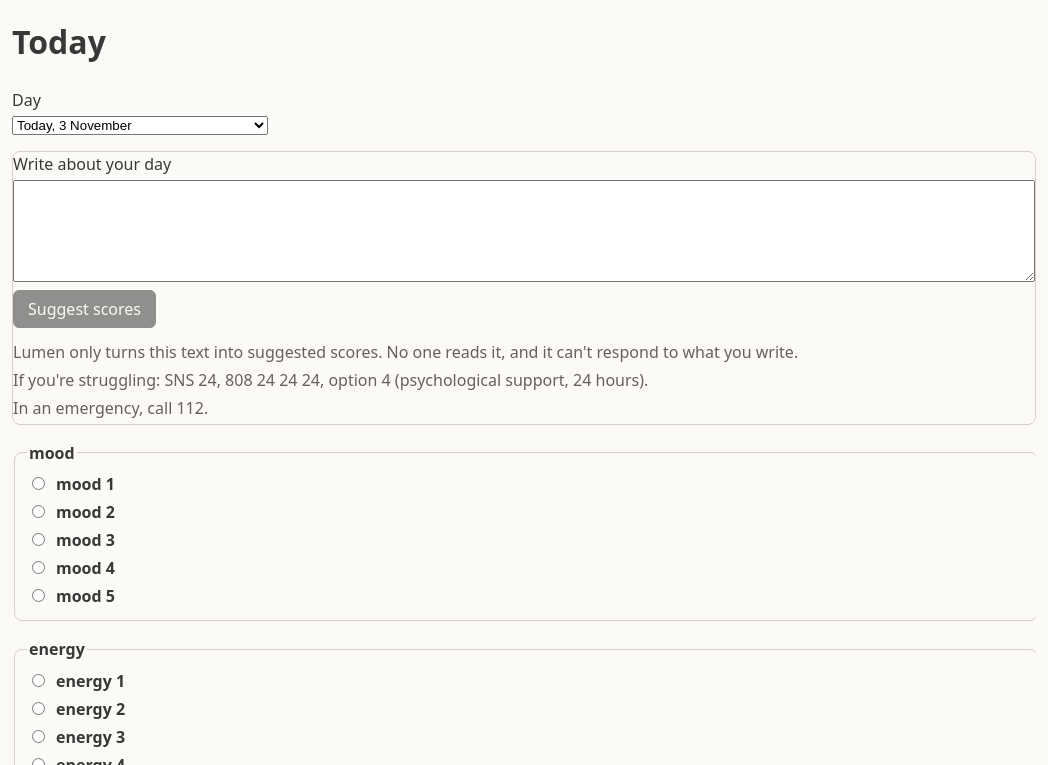
Scenario: a new day › asks the prompted dimensions, and saving sends exactly the answers
Click the radio button labelled "mood 4". click: click(38, 568)
box: [32,562,45,574]
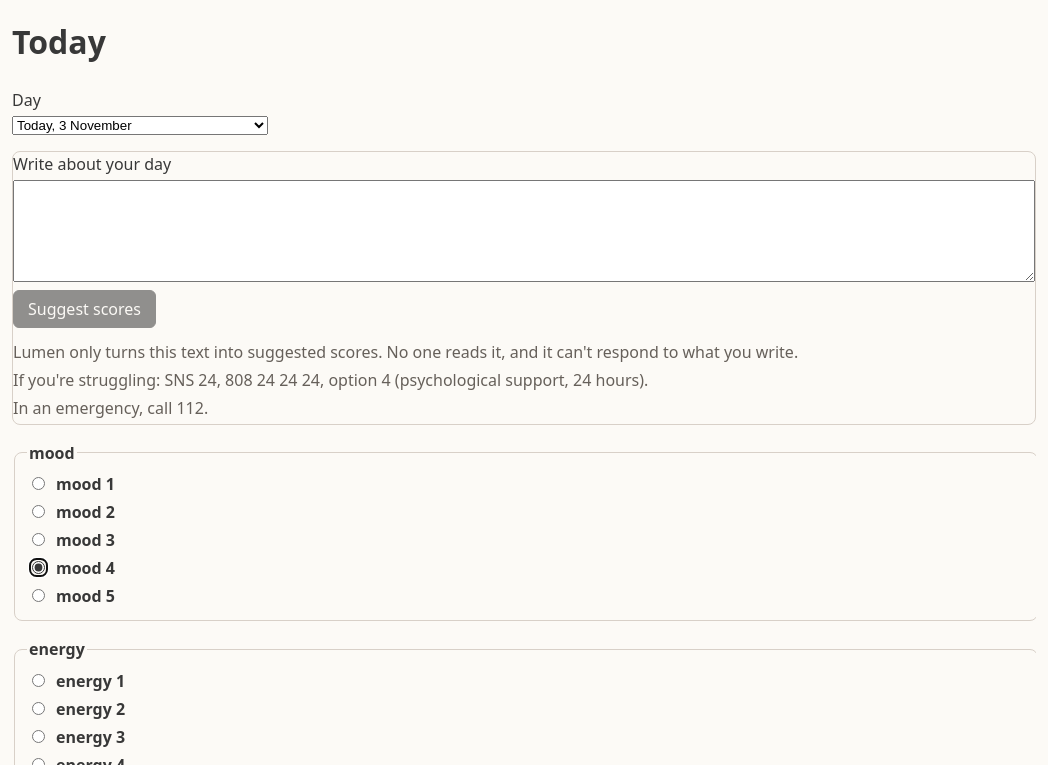
Click the radio button labelled "energy 3". click: click(38, 737)
box: [32,730,45,743]
(page scrolled)
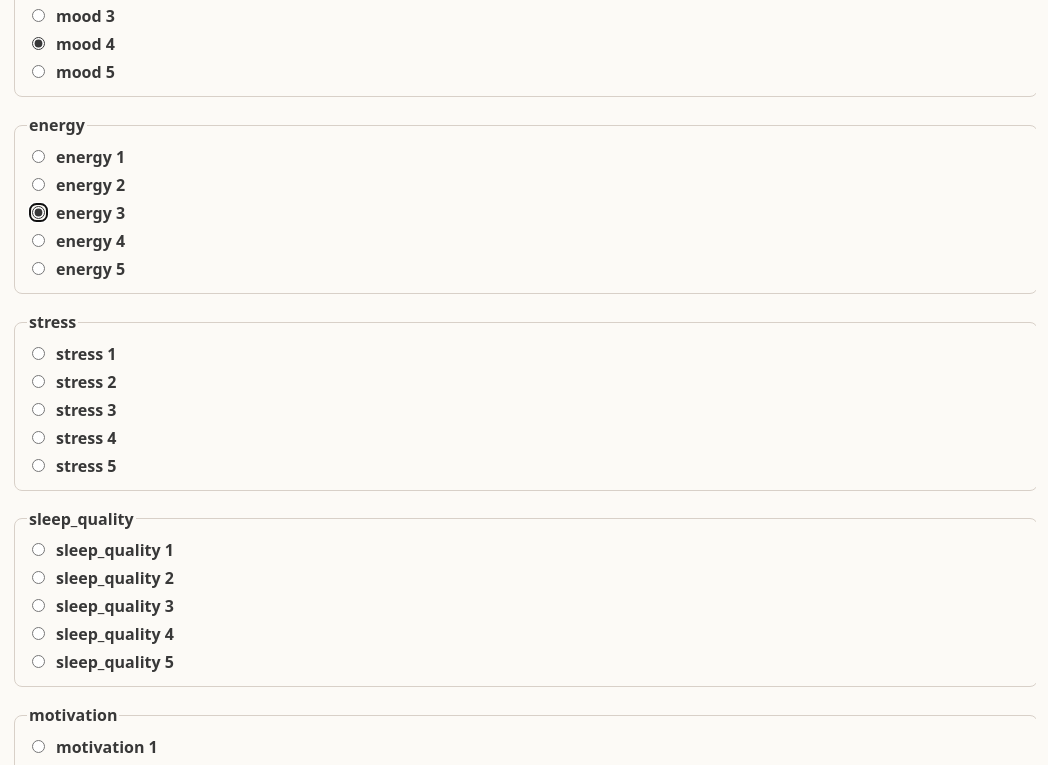
Click the radio button labelled "stress 2". click: click(38, 381)
box: [32,375,45,388]
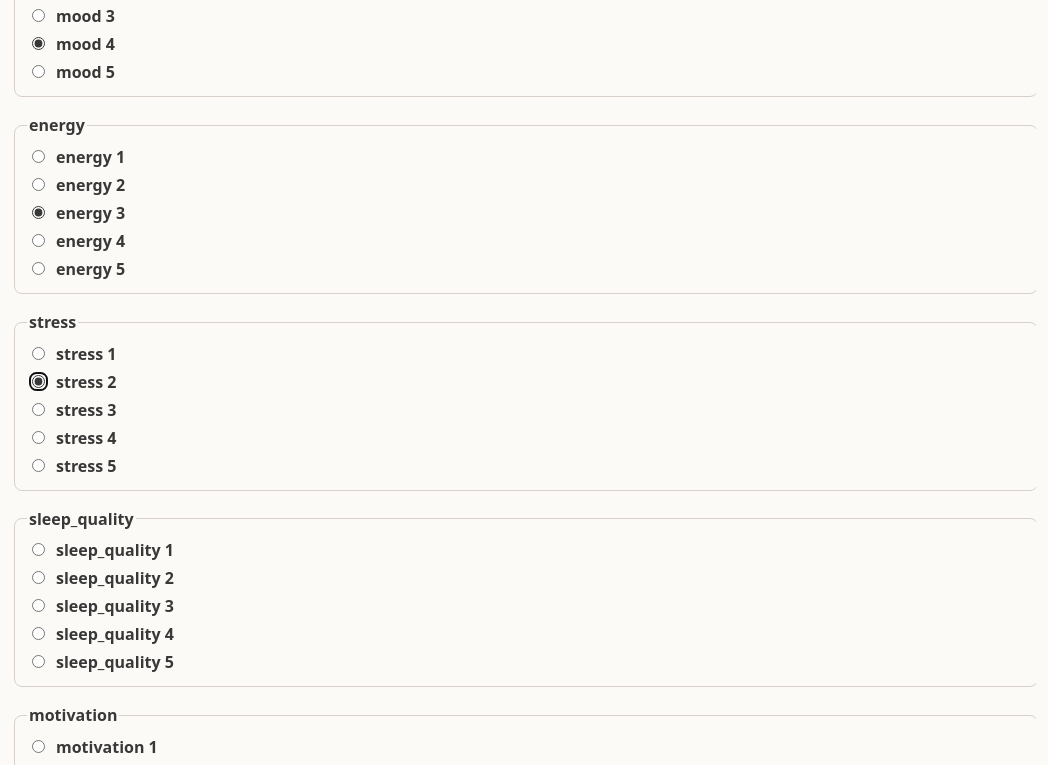
Click the radio button labelled "sleep_quality 5". click: click(38, 662)
box: [32,655,45,668]
(page scrolled)
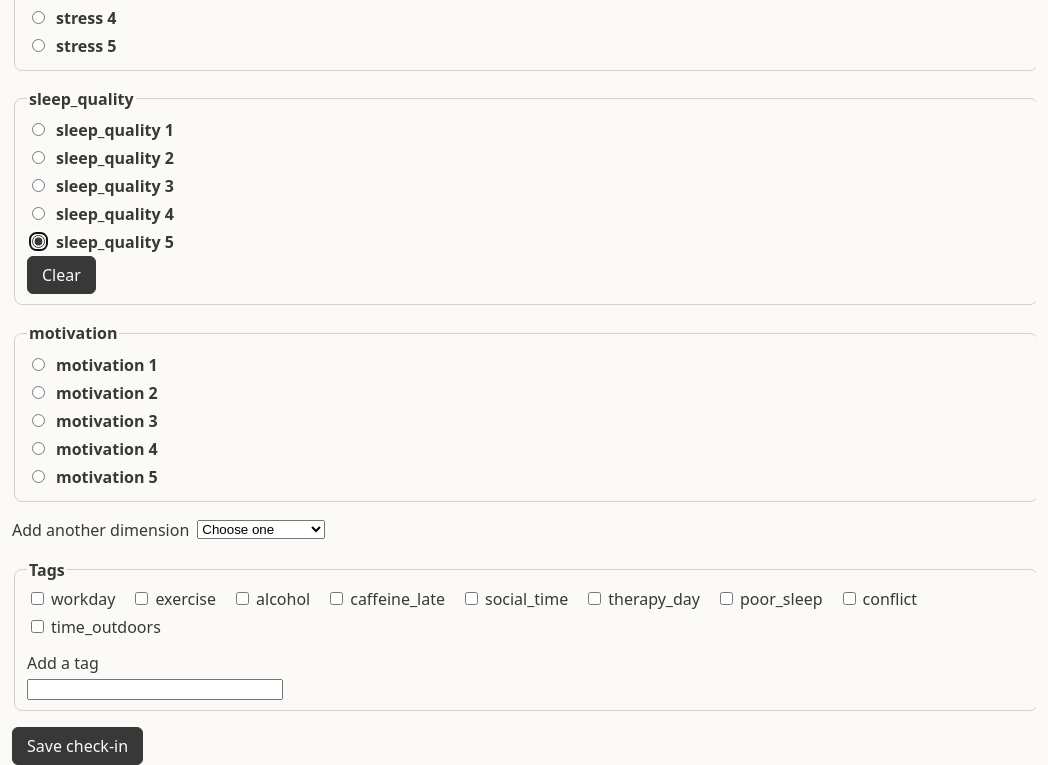
Click the checkbox labelled "workday". click: click(38, 599)
box: [31,592,44,605]
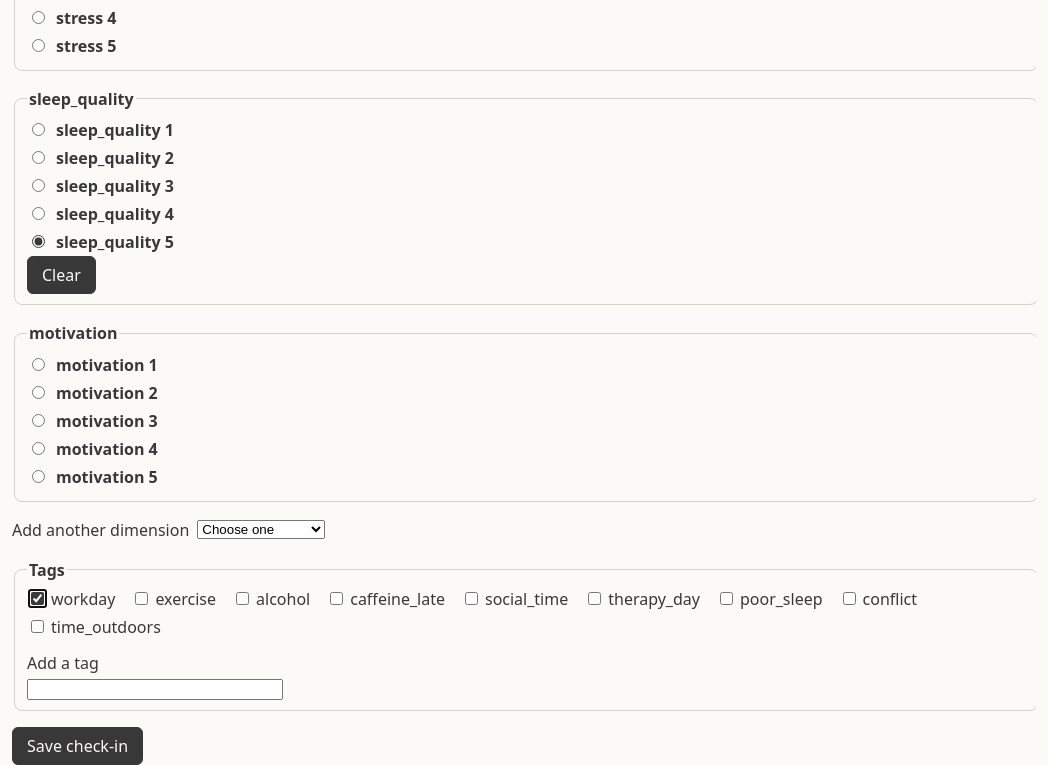
Click the button "Save check-in". click: click(78, 746)
box: [12,727,143,764]
(page scrolled)
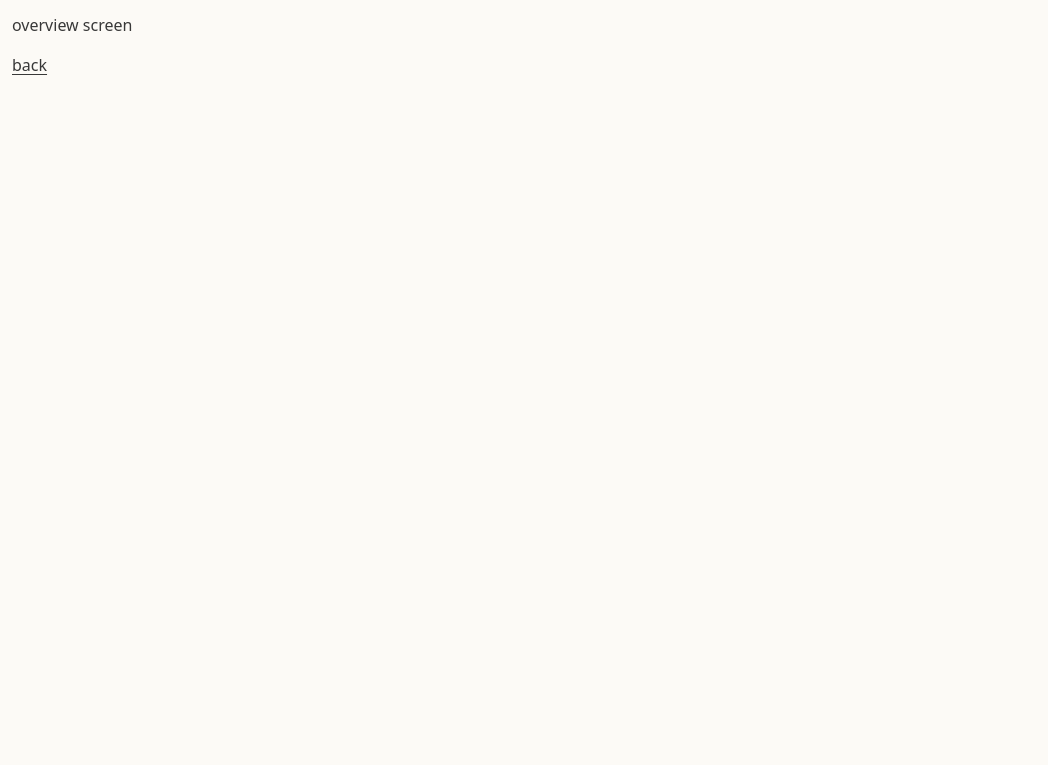
Expected: the text "overview screen" is shown, [12,14,132,36]
